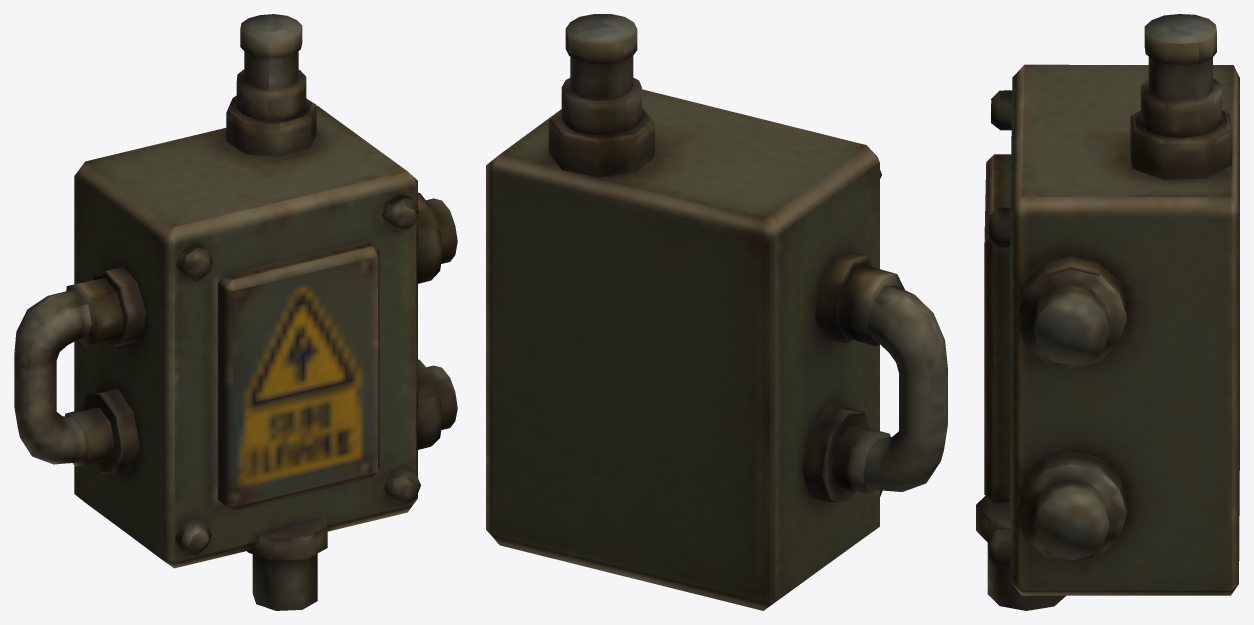
File: safety_hazard_equipment_box.fbx
3 renders of one model, left to right at view 1: azimuth 30°, elevation 25°; view 2: azimuth 150°, elevation 25°; view 3: azimuth 270°, elevation 25°, orthographic. The views are drawn at different scales.
Parts seen in each view (by area): view 1: safety_hazard_equipment_box; view 2: safety_hazard_equipment_box; view 3: safety_hazard_equipment_box.
Boxes of the visible parts, <box> form: safety_hazard_equipment_box: <box>14,14,457,610</box>; safety_hazard_equipment_box: <box>486,14,947,610</box>; safety_hazard_equipment_box: <box>976,14,1239,610</box>.
Size of the model in its own units: 87.98 by 107 by 42.85.
